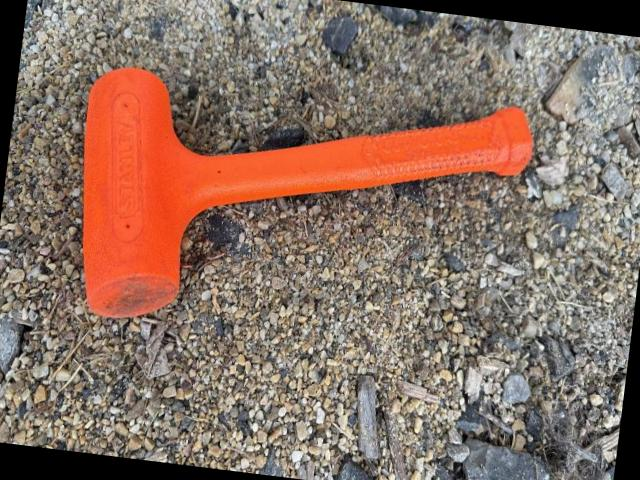hammer: (60, 54, 538, 364)
